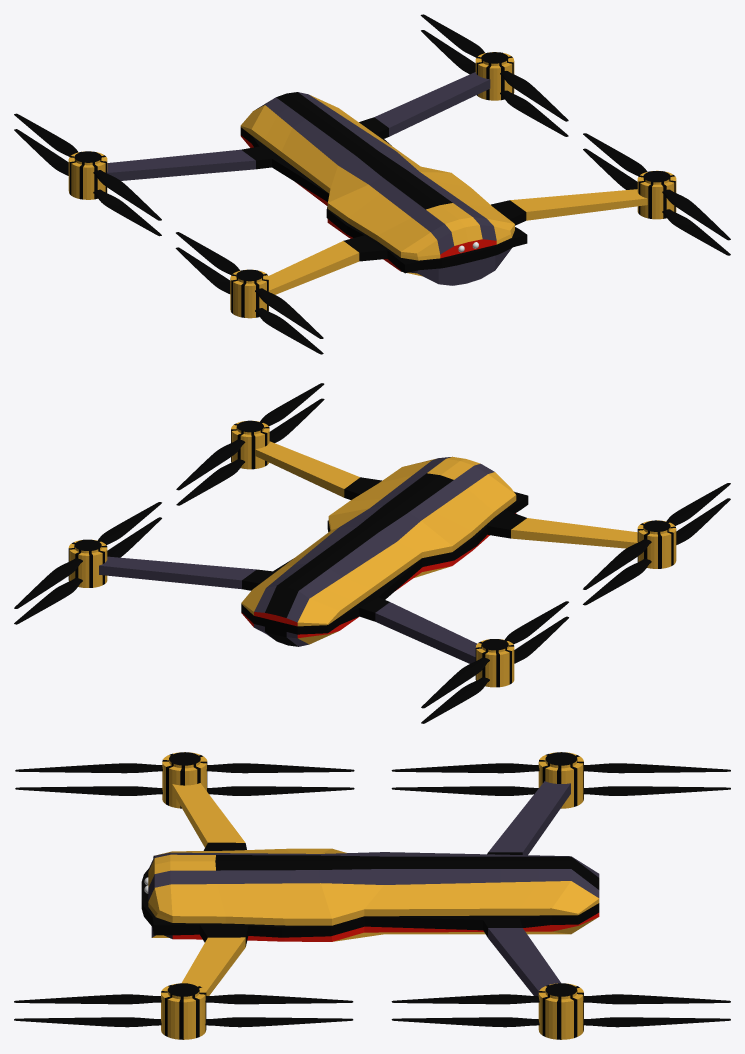
File: Drone2.fbx
The picture shows the model from 3 angles, top to bottom: view 1: azimuth 30°, elevation 25°; view 2: azimuth 150°, elevation 25°; view 3: azimuth 270°, elevation 25°; orthographic projection. The views are drawn at different scales.
Visible parts, largest first — view 1: Body, Rotor7, Rotor3, Rotor1, Rotor5, Rotor6, Rotor4, Rotor8, Rotor2; view 2: Body, Rotor1, Rotor3, Rotor5, Rotor7, Rotor4, Rotor6, Rotor2, Rotor8; view 3: Body, Rotor1, Rotor7, Rotor2, Rotor8, Rotor6, Rotor3, Rotor5, Rotor4.
Part boxes in pixels (x1,y1,x2,y2): Body: [68, 52, 676, 318]; Rotor7: [420, 14, 568, 121]; Rotor3: [14, 113, 161, 220]; Rotor1: [583, 133, 730, 240]; Rotor5: [176, 232, 323, 338]; Rotor6: [175, 247, 323, 354]; Rotor4: [14, 129, 161, 236]; Rotor8: [421, 30, 568, 136]; Rotor2: [583, 148, 730, 255]; Body: [68, 420, 676, 687]; Rotor1: [176, 383, 324, 490]; Rotor3: [421, 601, 568, 708]; Rotor5: [583, 483, 730, 589]; Rotor7: [14, 502, 161, 608]; Rotor4: [421, 616, 568, 723]; Rotor6: [583, 498, 730, 605]; Rotor2: [176, 398, 324, 505]; Rotor8: [14, 517, 161, 624]; Body: [141, 752, 599, 1039]; Rotor1: [14, 994, 353, 1004]; Rotor7: [391, 994, 730, 1004]; Rotor2: [14, 1017, 353, 1027]; Rotor8: [391, 1017, 730, 1027]; Rotor6: [15, 786, 354, 795]; Rotor3: [391, 763, 730, 773]; Rotor5: [15, 763, 354, 773]; Rotor4: [391, 786, 730, 795].
Size of the model in its own units: 264 by 33.43 by 320.
